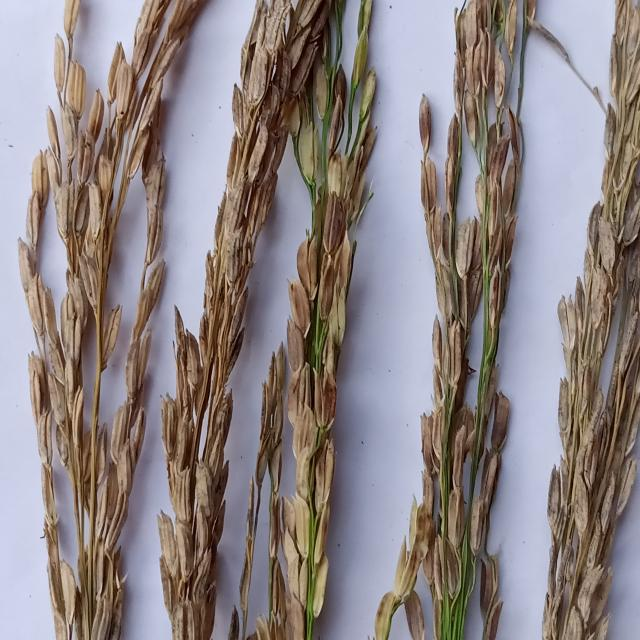Neck_Blast: (19, 0, 223, 638), (364, 1, 543, 640), (164, 0, 336, 638), (543, 0, 639, 640)
